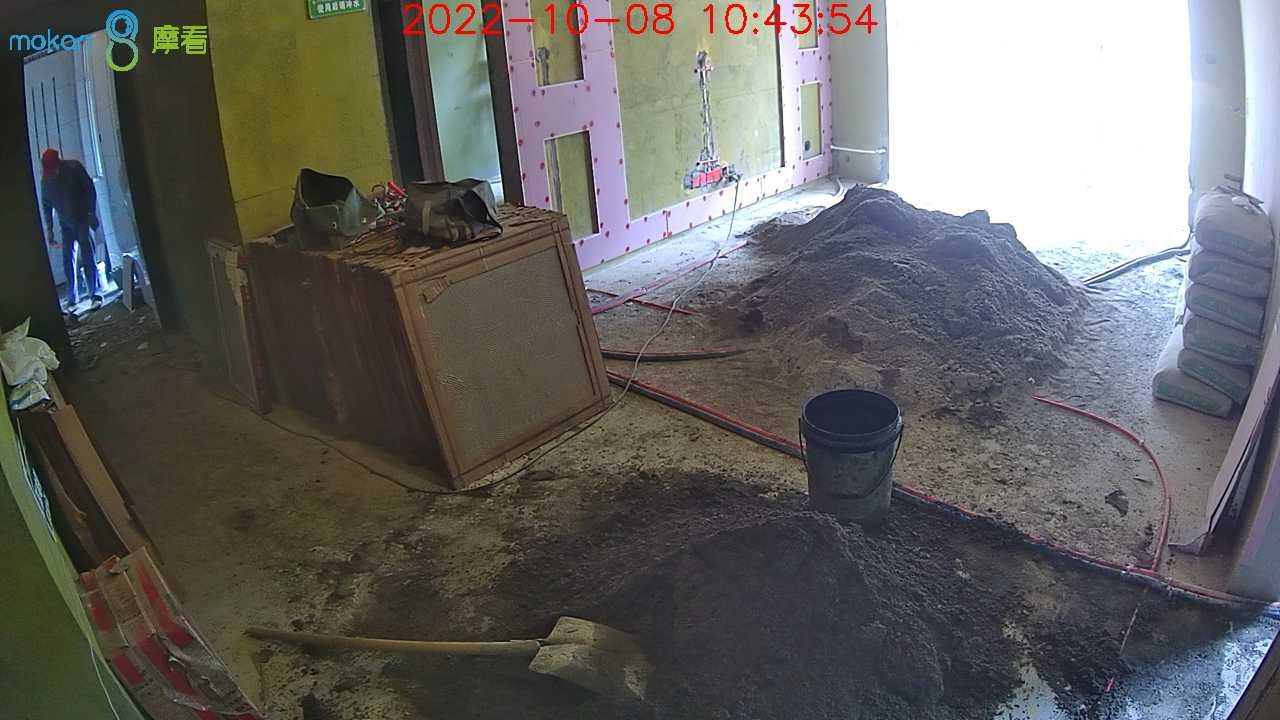people: (41, 148, 103, 309)
window: (885, 1, 1191, 179)
